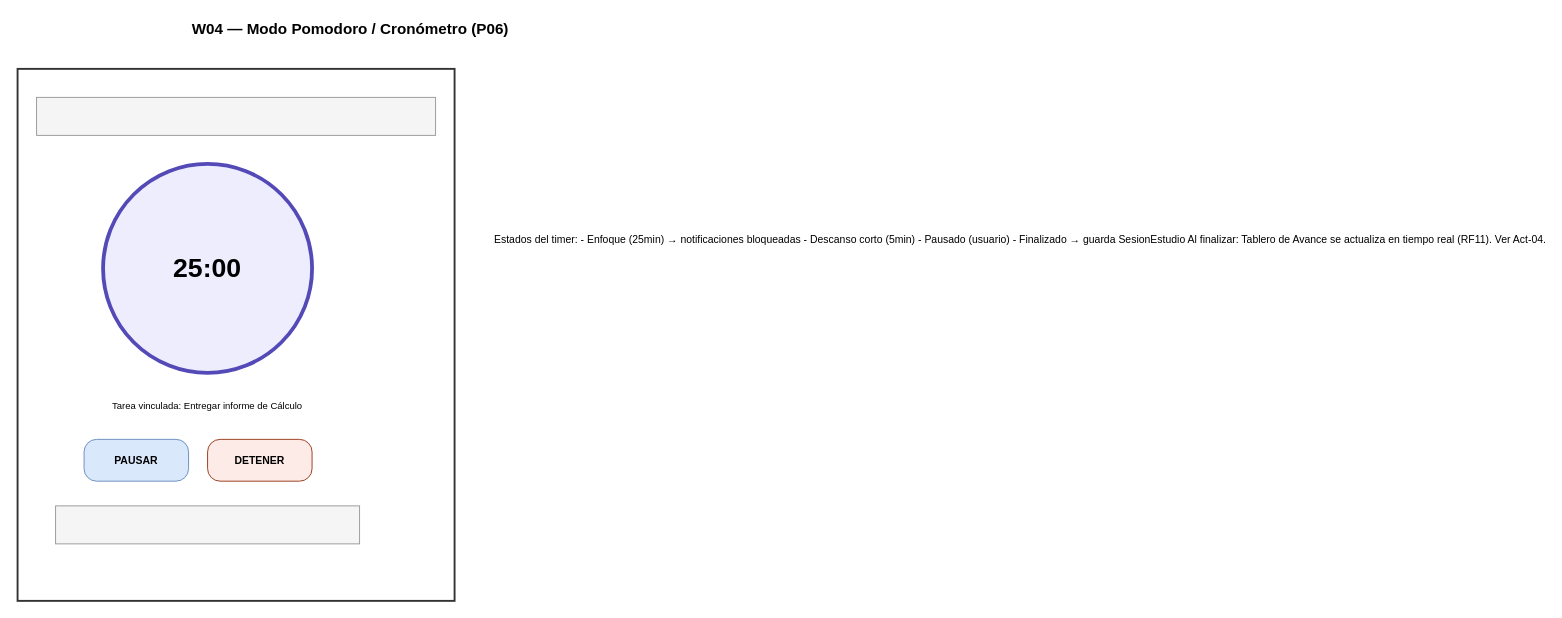
Some shapes in this 1562 by 618 pixel diagram are drawn without their labels. Each missing label, with the centre of its shape:
"Modo: ○ Pomodoro (25/5) ○ Libre" goes at pixel 207 524.
"← Volver Modo Enfoque 🔒" goes at pixel 236 115.
